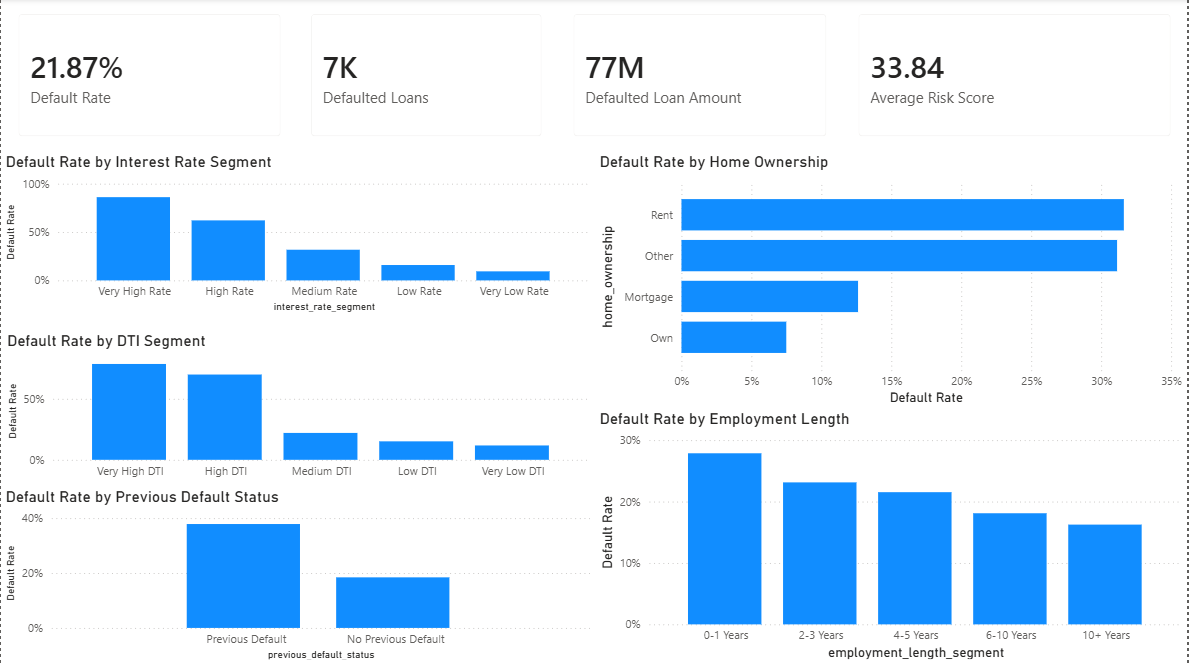

Layout of this report page (visuals, bound fields, positions):
{"tool":"powerbi","page":{"name":"Default Risk Analysis","canvas":[1280,720],"ordinal":1},"visuals":[{"type":"cardVisual","fields":{"Data":["loans.Default Rate"]},"box":[2,0,317.3,166.7],"z":0},{"type":"cardVisual","fields":{"Data":["loans.Defaulted Loans"]},"box":[317.3,0,283.2,166.7],"z":1000},{"type":"cardVisual","fields":{"Data":["loans.Defaulted Loan Amount"]},"box":[600.5,0,307.3,166.7],"z":2000},{"type":"cardVisual","fields":{"Data":["loans.Average Risk Score"]},"box":[907.8,0,371.6,166.7],"z":3000},{"type":"clusteredColumnChart","title":"Default Rate by Interest Rate Segment","fields":{"Category":["loans.interest_rate_segment"],"Y":["loans.Default Rate"]},"box":[0,166.7,640.7,176.7],"z":4000},{"type":"clusteredColumnChart","title":"Default Rate by DTI Segment","fields":{"Category":["loans.loan_to_income_segment"],"Y":["loans.Default Rate"]},"box":[2,359.5,638.7,168.7],"z":5000},{"type":"clusteredColumnChart","title":"Default Rate by Previous Default Status","fields":{"Category":["loans.previous_default_status"],"Y":["loans.Default Rate"]},"box":[0,528.2,640.7,190.8],"z":6000},{"type":"clusteredBarChart","title":"Default Rate by Home Ownership","fields":{"Category":["loans.home_ownership"],"Y":["loans.Default Rate"]},"box":[640.7,166.7,638.7,277.2],"z":7000},{"type":"clusteredColumnChart","title":"Default Rate by Employment Length","fields":{"Category":["loans.employment_length_segment"],"Y":["loans.Default Rate"]},"box":[640.7,443.9,638.7,275.1],"z":8000}]}

Visuals, with their boxes in screenshot pixels (x1, y1, x2, y2), scaled from the page's 1280x720 canvas onto the 1189x664 screenshot:
cardVisual - loans.Default Rate: <region>2, 0, 297, 154</region>
cardVisual - loans.Defaulted Loans: <region>295, 0, 558, 154</region>
cardVisual - loans.Defaulted Loan Amount: <region>558, 0, 843, 154</region>
cardVisual - loans.Average Risk Score: <region>843, 0, 1188, 154</region>
"Default Rate by Interest Rate Segment" clusteredColumnChart: <region>0, 154, 595, 317</region>
"Default Rate by DTI Segment" clusteredColumnChart: <region>2, 332, 595, 487</region>
"Default Rate by Previous Default Status" clusteredColumnChart: <region>0, 487, 595, 663</region>
"Default Rate by Home Ownership" clusteredBarChart: <region>595, 154, 1188, 409</region>
"Default Rate by Employment Length" clusteredColumnChart: <region>595, 409, 1188, 663</region>
